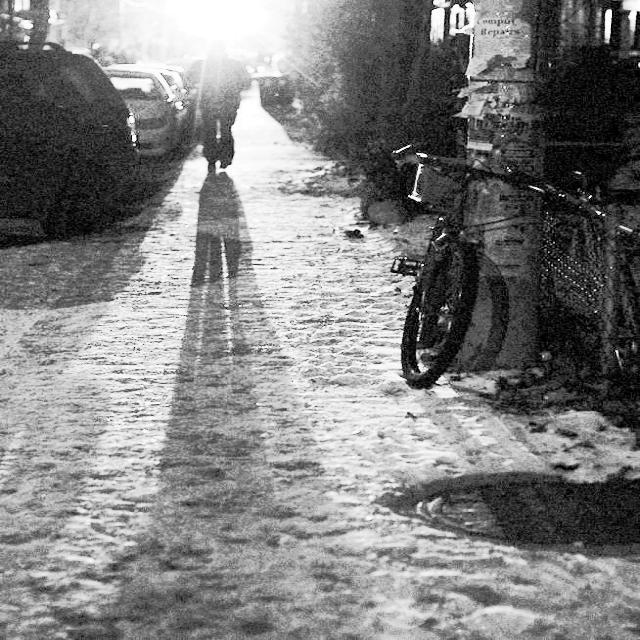Bicycle: (380, 126, 548, 401)
Car: (90, 52, 210, 145)
Person: (185, 41, 274, 175)
